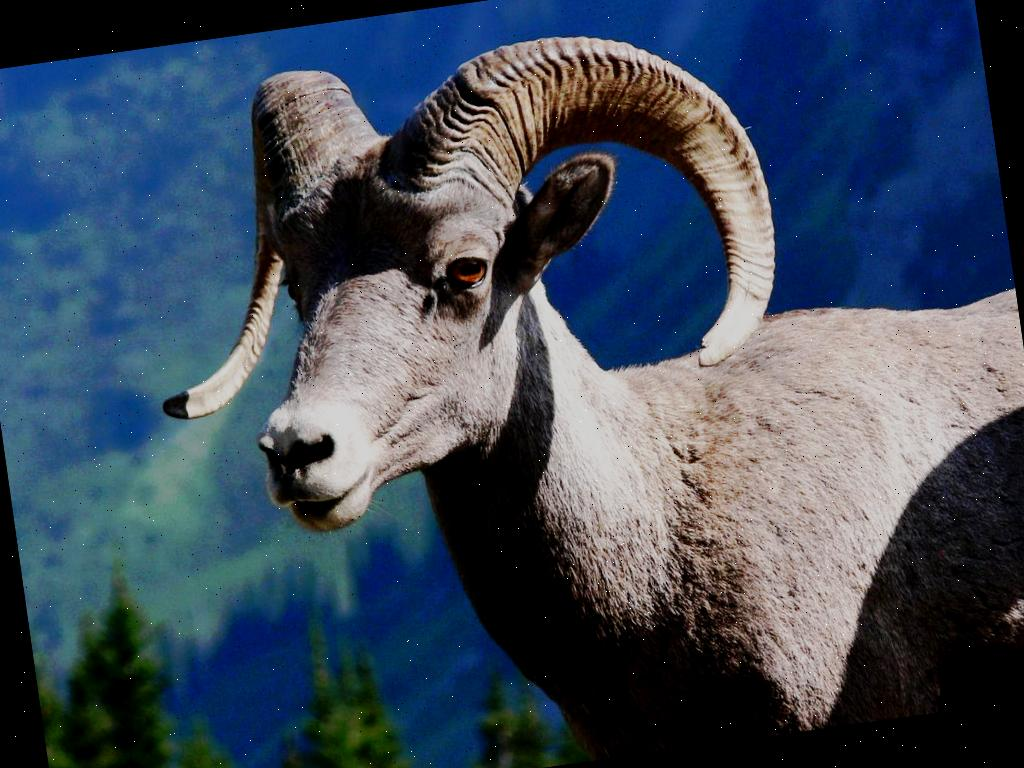Sheep: (117, 0, 1024, 768)
